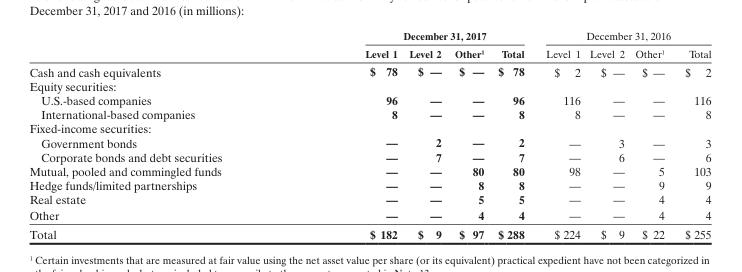table: (28, 29, 710, 240)
table column: (28, 29, 292, 240), (292, 29, 402, 240), (534, 29, 584, 240), (402, 29, 447, 240), (584, 29, 629, 240), (629, 29, 674, 240), (490, 29, 534, 240), (447, 29, 490, 240), (674, 29, 710, 240)
table column header: (28, 29, 710, 62)
table projected row header: (28, 78, 710, 92), (28, 121, 710, 135)
table row: (28, 44, 710, 62), (28, 207, 710, 224), (28, 62, 710, 78), (28, 224, 710, 240), (28, 29, 710, 44), (28, 106, 710, 121), (28, 163, 710, 178), (28, 192, 710, 207), (28, 78, 710, 92), (28, 92, 710, 106), (28, 121, 710, 135), (28, 135, 710, 149), (28, 149, 710, 163), (28, 178, 710, 192)
table spanning cell: (292, 29, 534, 44), (534, 29, 710, 44)
